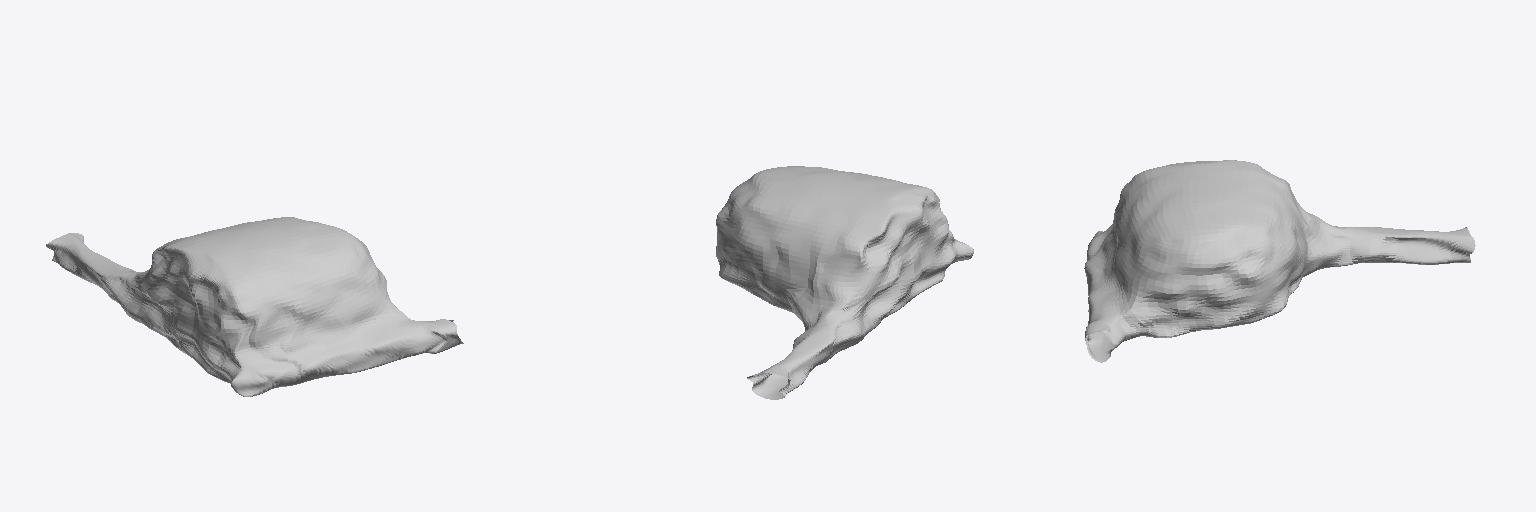
The model's file is cave.obj.
3 renders of one model, left to right at view 1: azimuth 30°, elevation 25°; view 2: azimuth 150°, elevation 25°; view 3: azimuth 270°, elevation 25°, orthographic.
Parts seen in each view (by area): view 1: Cube; view 2: Cube; view 3: Cube.
Boxes of the visible parts, <box> form: Cube: <box>46,217,463,396</box>; Cube: <box>716,166,973,399</box>; Cube: <box>1084,160,1475,362</box>.
Bounding box in the file's own units: 17.33 × 7.31 × 25.24.